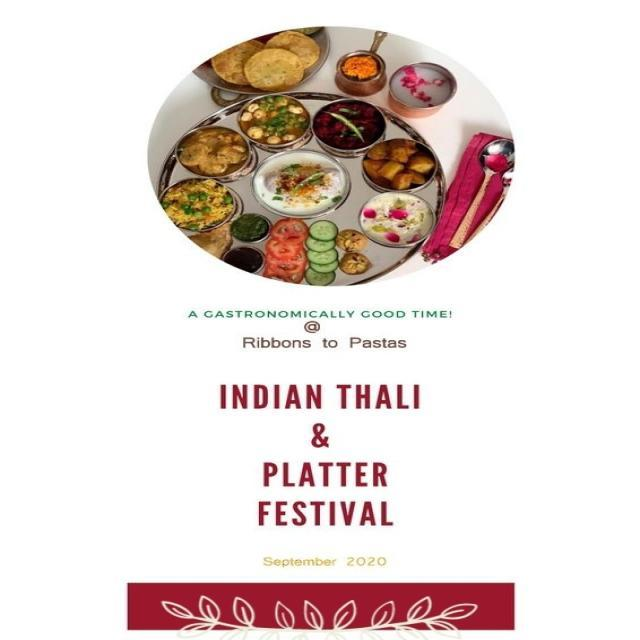papad: (202, 24, 328, 94)
raita: (256, 155, 352, 212), (386, 59, 460, 109)
rice: (158, 175, 239, 232)
sweet: (357, 193, 440, 245)
veg-fry: (165, 122, 250, 183)
